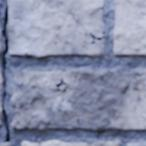brick: (11, 70, 145, 130), (8, 0, 105, 58), (114, 0, 145, 54), (22, 141, 118, 145), (0, 69, 1, 125), (128, 144, 145, 145), (0, 144, 10, 145)
crack: (0, 2, 10, 143), (72, 13, 105, 45), (46, 123, 79, 128)
